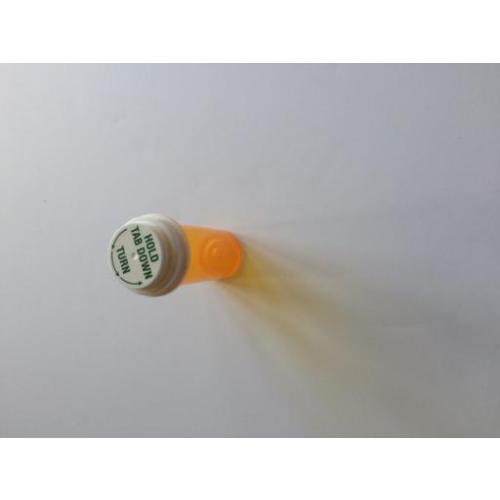plastic: (109, 216, 241, 296)
